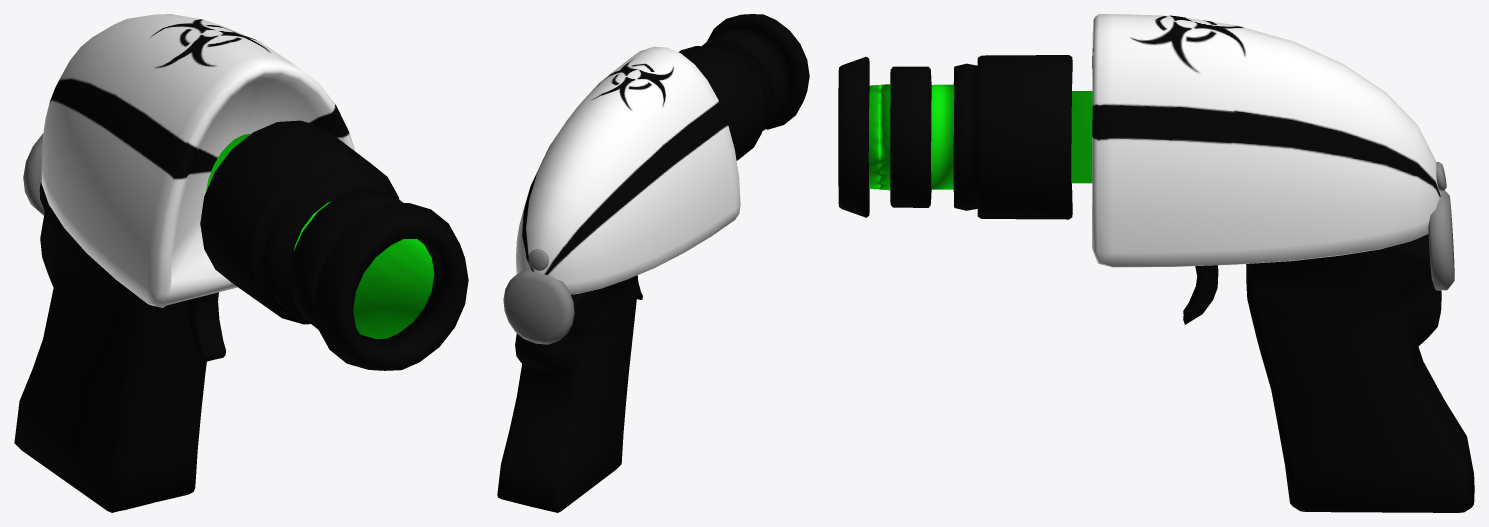
The model's file is ZombieOperation.fbx.
3 renders of one model, left to right at view 1: azimuth 30°, elevation 25°; view 2: azimuth 150°, elevation 25°; view 3: azimuth 270°, elevation 25°, orthographic. The views are drawn at different scales.
Visible parts, largest first — view 1: ZombieOperation; view 2: ZombieOperation; view 3: ZombieOperation.
Boxes of the visible parts, x1,y1,x2,y2 form: ZombieOperation: (14,14,468,512); ZombieOperation: (497,14,809,512); ZombieOperation: (838,14,1474,512).
Bounding box in the file's own units: 8.56 × 20 × 24.29.
